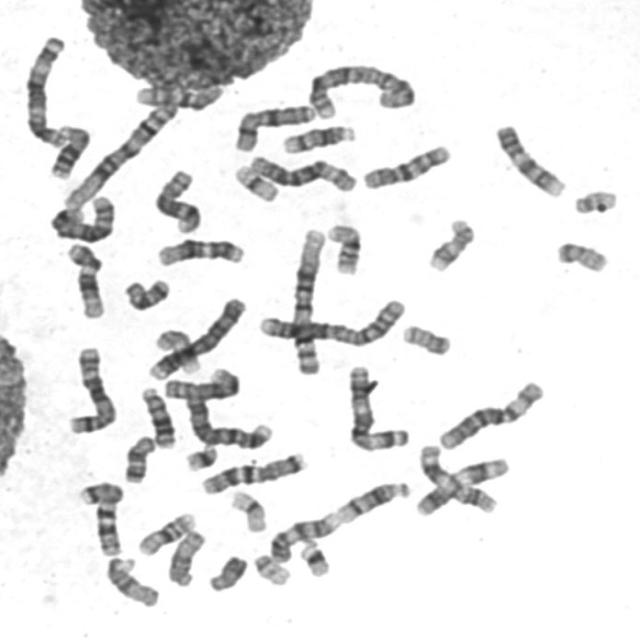A1: (60, 94, 182, 211), (288, 224, 329, 378)
A2: (255, 294, 410, 348), (304, 58, 420, 121)
A3: (344, 360, 414, 452), (20, 30, 73, 150)
B4: (146, 292, 251, 382), (183, 388, 278, 452)
B5: (64, 342, 122, 436), (46, 190, 118, 244)
C10: (359, 139, 455, 192), (131, 80, 226, 112)
C11: (413, 448, 510, 517), (415, 440, 502, 516)
C12: (62, 238, 110, 320), (152, 233, 249, 268)
C6: (434, 375, 548, 452), (247, 150, 361, 193)
C7: (198, 447, 312, 496), (74, 476, 128, 559)
C8: (150, 165, 204, 235), (159, 364, 243, 402)
C9: (491, 119, 570, 199), (266, 508, 342, 564)
D13: (46, 119, 94, 181), (137, 381, 180, 450)
D14: (333, 476, 414, 524), (279, 120, 359, 156)
D15: (102, 552, 163, 610), (164, 526, 208, 588)
E16: (134, 508, 200, 558), (324, 219, 366, 276)
E17: (424, 213, 478, 274), (150, 324, 204, 376)
E18: (120, 430, 160, 485), (120, 273, 174, 313)
F19: (230, 160, 283, 203), (226, 485, 271, 534)
F20: (552, 236, 612, 275), (398, 319, 454, 358)
G21: (295, 534, 333, 579), (181, 440, 222, 472)
G22: (250, 548, 294, 586), (570, 185, 622, 216)
X: (230, 100, 318, 153)
Y: (204, 550, 252, 593)
